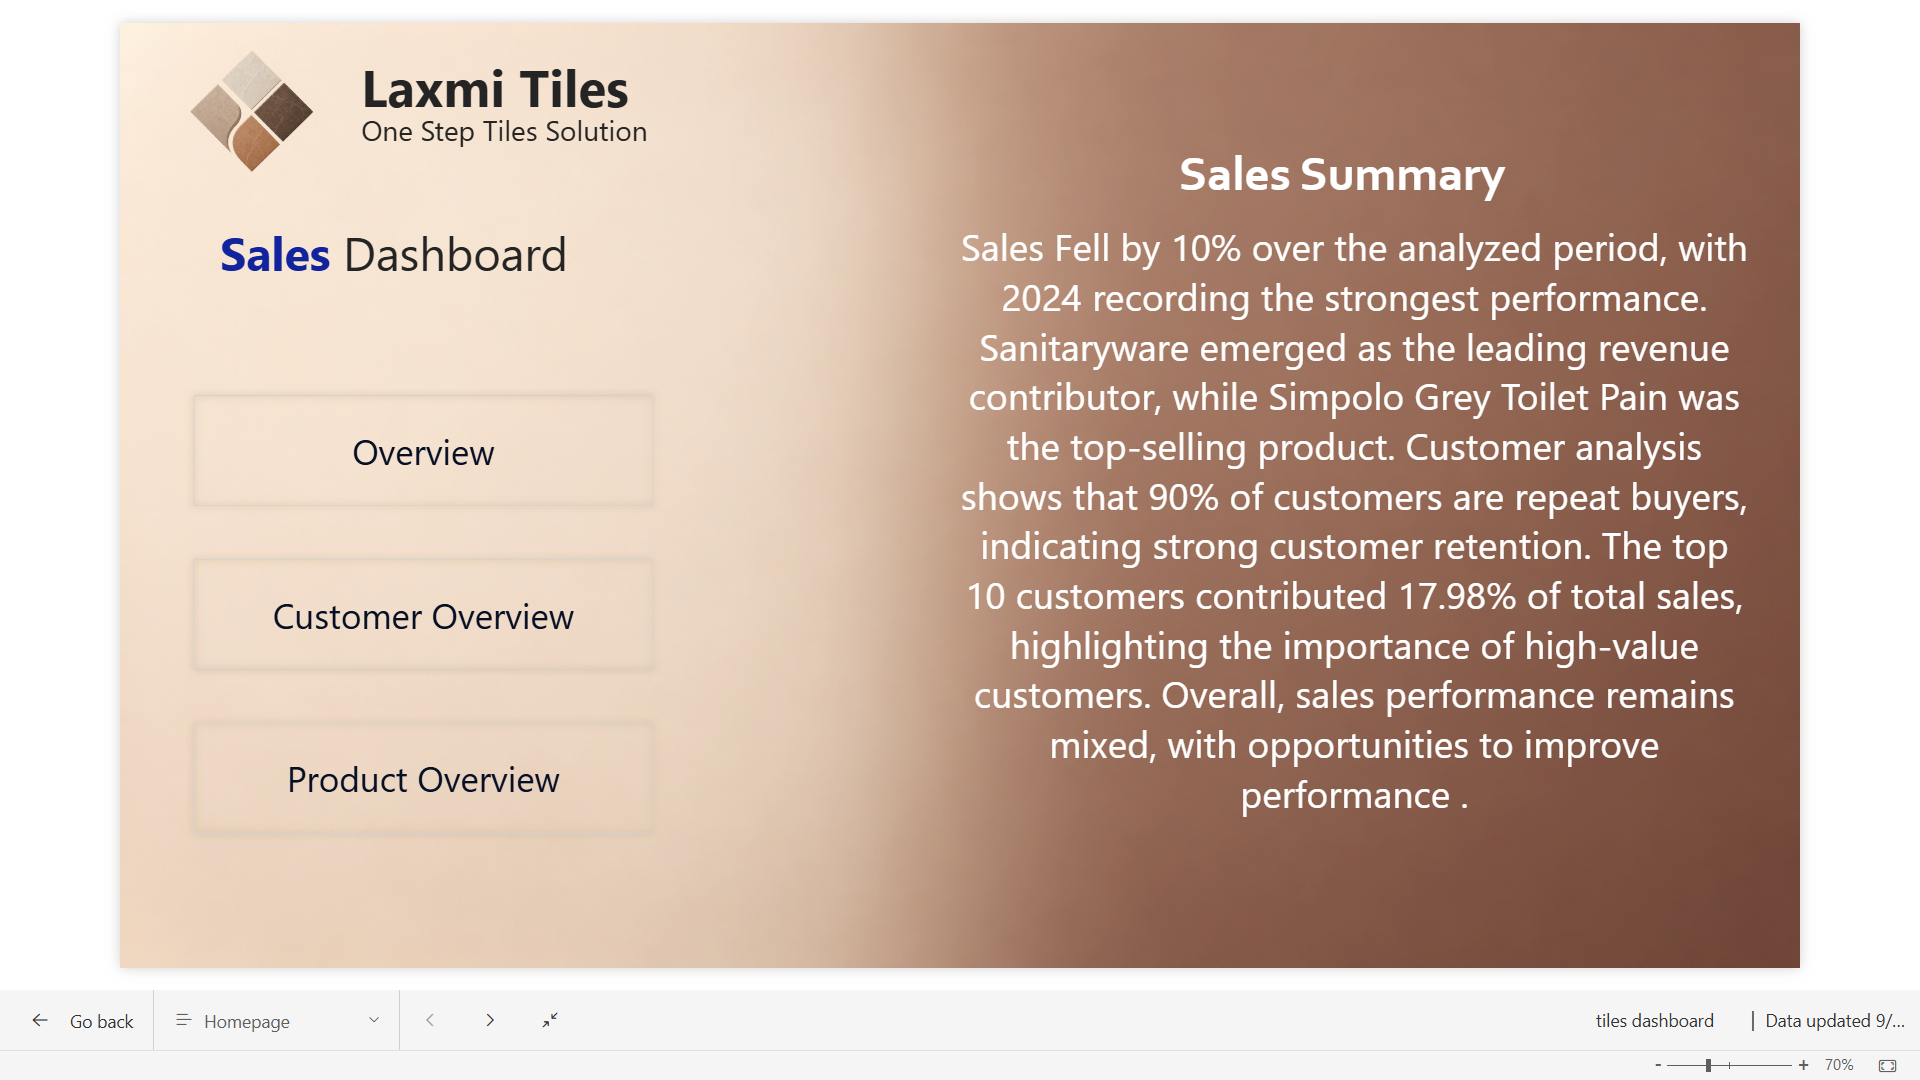

This screenshot's page, from the dashboard's own definition file:
{"tool":"powerbi","page":{"name":"Homepage","canvas":[1920,1080],"ordinal":0},"visuals":[{"type":"textbox","box":[114.8,225.4,461.2,104.3],"z":0},{"type":"textbox","box":[275.5,33.4,386.1,104.3],"z":1000},{"type":"textbox","box":[275.5,100.2,532.2,77.2],"z":2000},{"type":"image","box":[25,0,250.4,206.6],"z":3000},{"type":"pageNavigator","box":[75.1,417.4,542.6,519.7],"z":4000},{"type":"textbox","box":[1210.4,137.7,651.1,75.1],"z":5000},{"type":"textbox","box":[960,225.4,901.6,809.7],"z":6000}]}

Visuals, with their boxes on the page's 1920x1080 design canvas (x1, y1, x2, y2). These are canvas units, not pixel positions in the 1920x1080 screenshot, which may show the page scaled, cropped or inside an application window:
textbox: (115, 225, 576, 330)
textbox: (276, 33, 662, 138)
textbox: (276, 100, 808, 177)
image: (25, 0, 275, 207)
pageNavigator: (75, 417, 618, 937)
textbox: (1210, 138, 1862, 213)
textbox: (960, 225, 1862, 1035)
